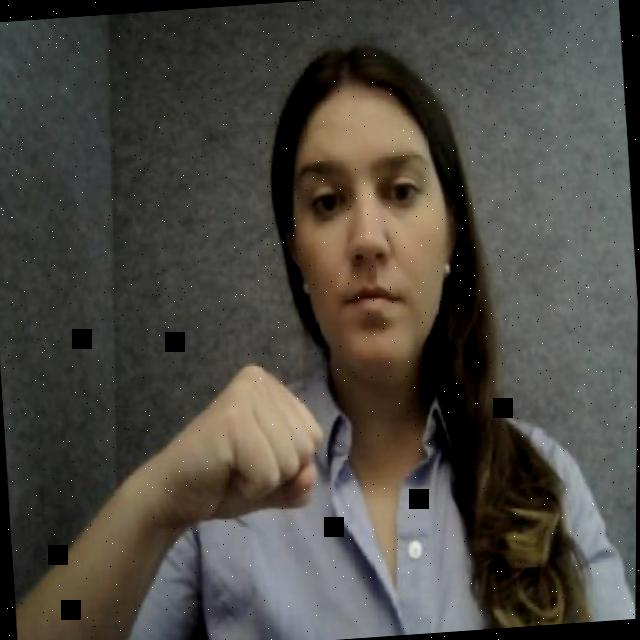Rock: (150, 352, 329, 536)
